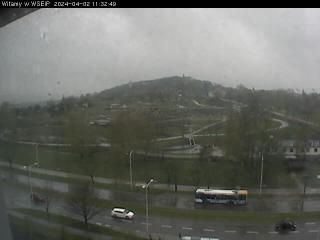bus: (194, 187, 248, 208)
car: (110, 206, 135, 221), (275, 219, 297, 234), (29, 191, 46, 204)
